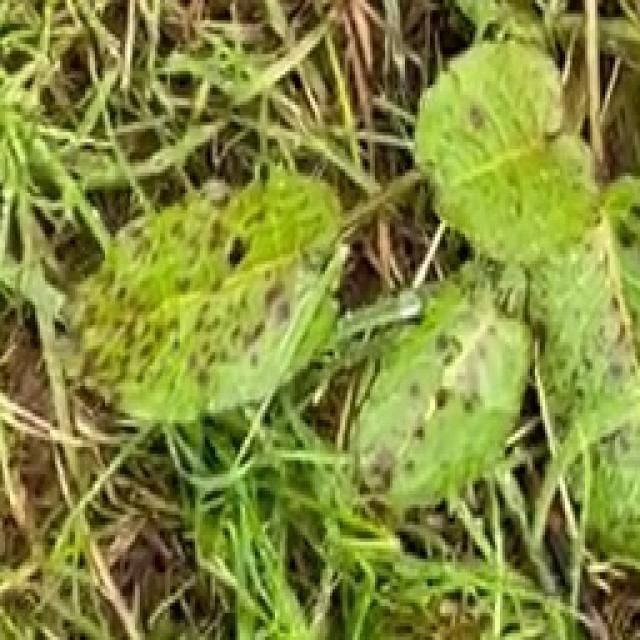organic waste: (60, 7, 640, 514)
